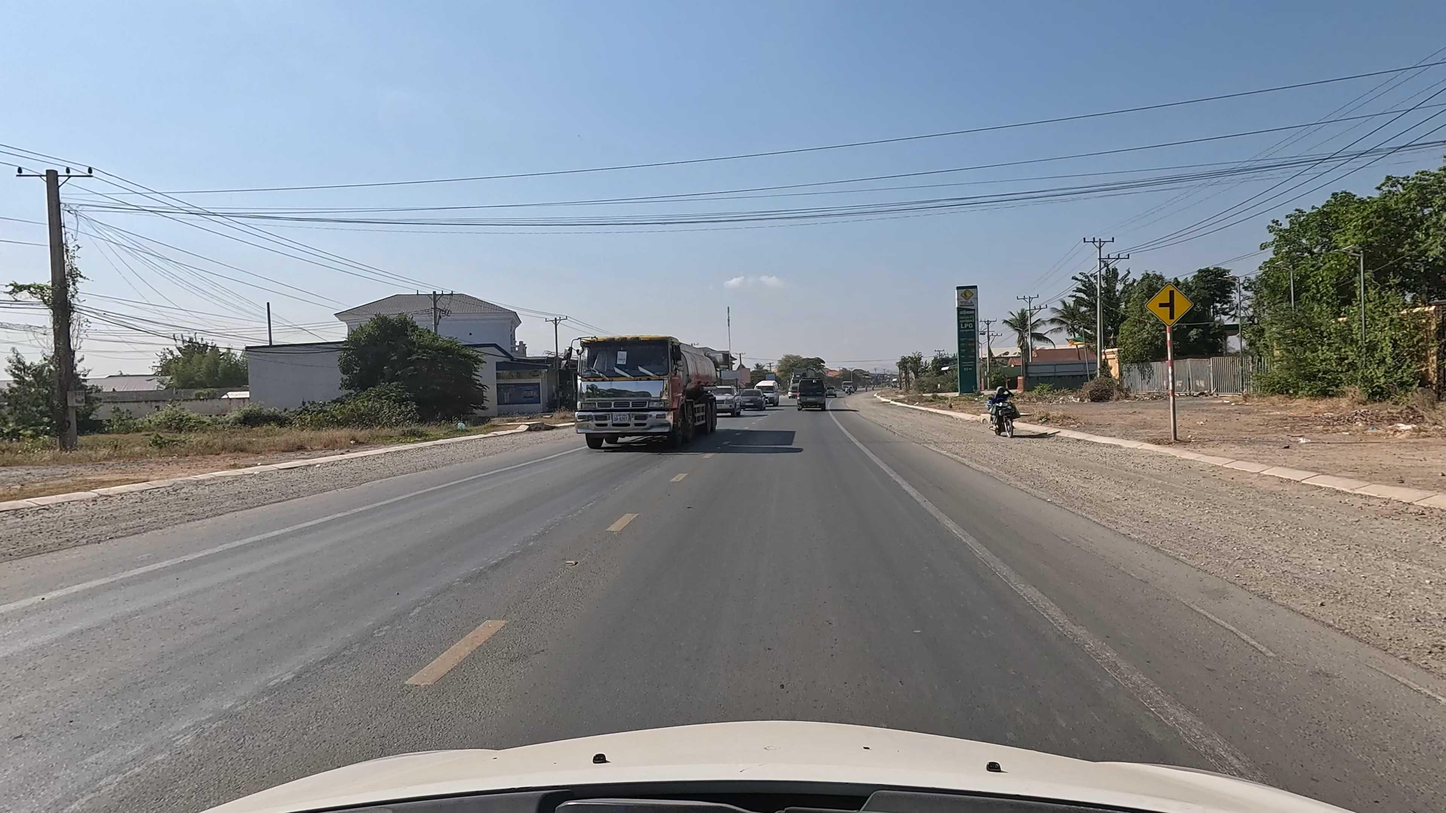side_road_junction_left: (1144, 281, 1195, 327)
